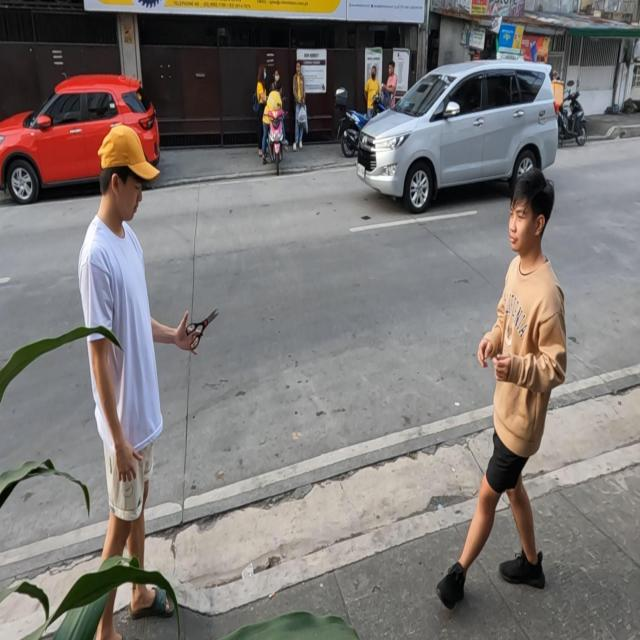scissor: (186, 308, 219, 352)
